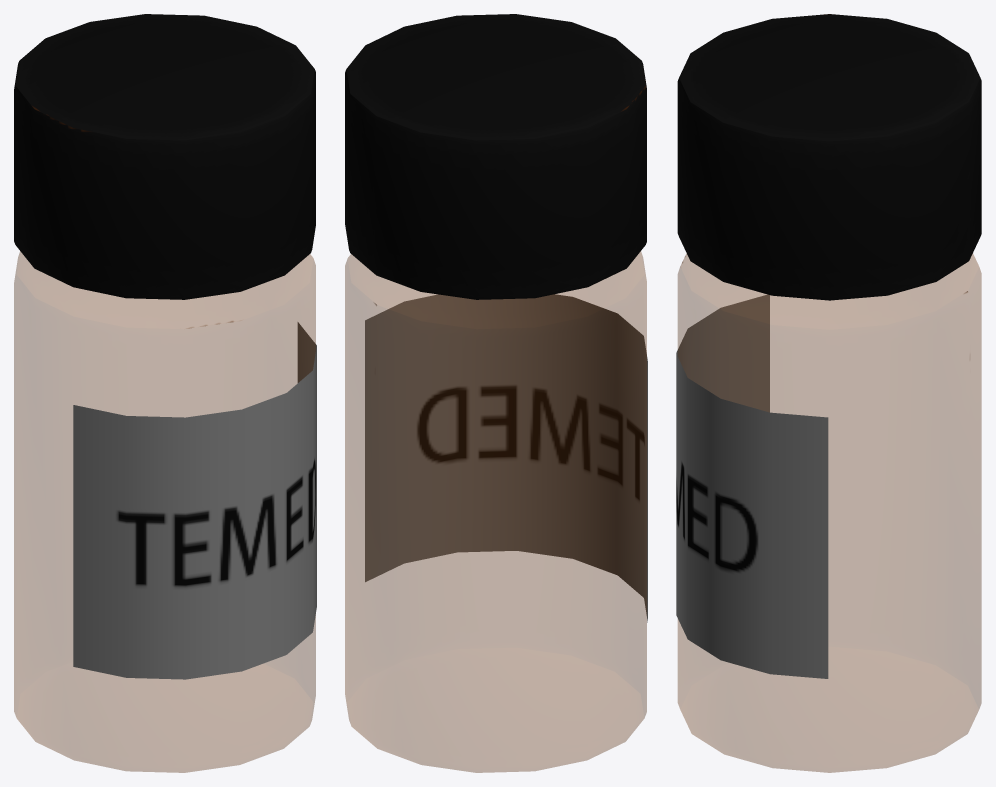
Rendered from TEMED.glb.
3 views of the same model, side by side, from view 1: azimuth 30°, elevation 25°; view 2: azimuth 150°, elevation 25°; view 3: azimuth 270°, elevation 25° (orthographic).
Visible parts, largest first — view 1: TEMED, Cylinder013, 对象007; view 2: TEMED, Cylinder013, 对象007; view 3: TEMED, Cylinder013, 对象007.
Part boxes in pixels (left/top/right/bottom): TEMED: left=14, top=251, right=315, bottom=772; Cylinder013: left=14, top=14, right=315, bottom=299; 对象007: left=73, top=322, right=316, bottom=679; TEMED: left=345, top=251, right=646, bottom=772; Cylinder013: left=345, top=14, right=646, bottom=299; 对象007: left=365, top=294, right=647, bottom=622; TEMED: left=678, top=253, right=981, bottom=772; Cylinder013: left=677, top=14, right=981, bottom=300; 对象007: left=676, top=294, right=828, bottom=678.
Bounding box in the file's own units: 0.03 × 0.0692 × 0.0302.
1 material, 1 textured.
